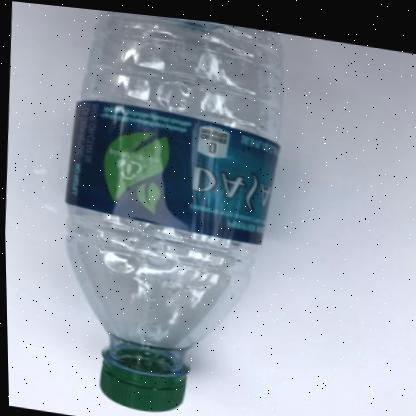Plastic: (64, 8, 281, 407)
